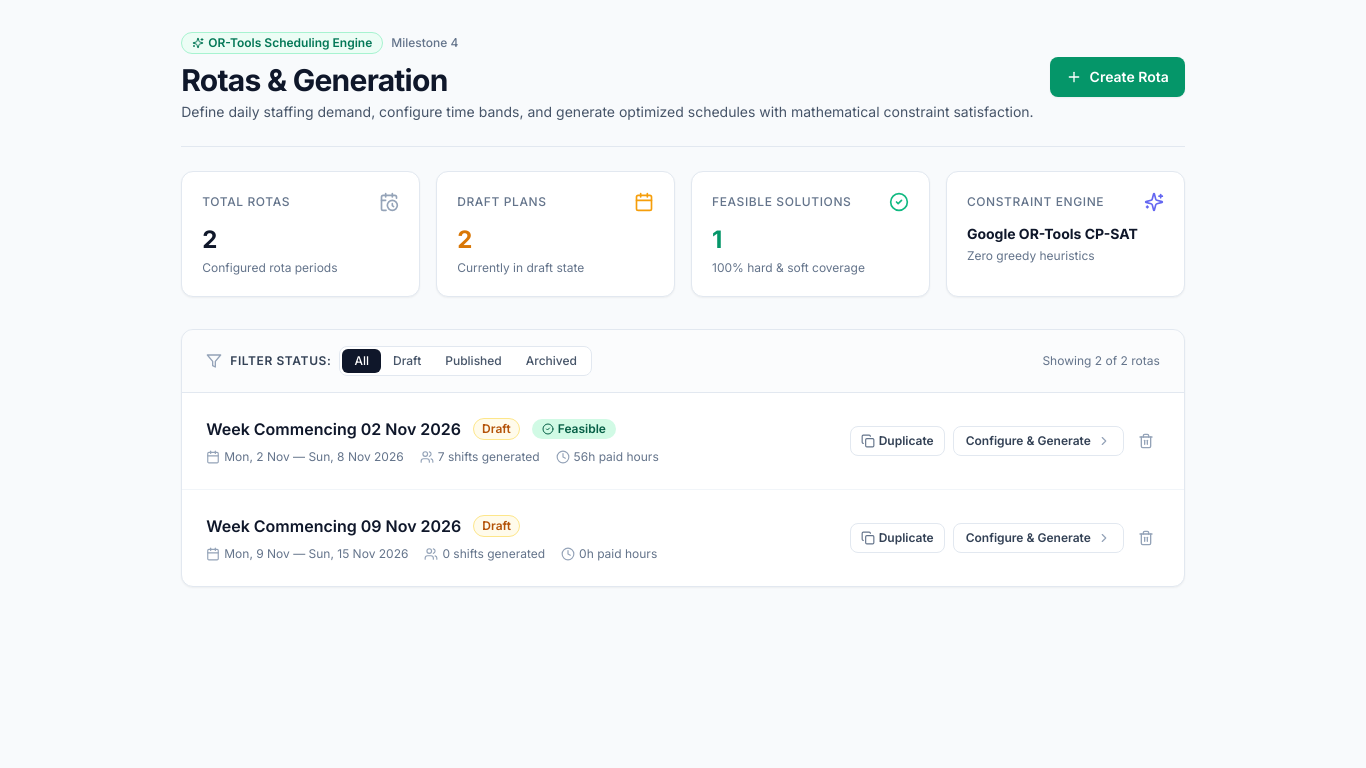
Scenario: RotasPage Component › opens create modal and supports quick period selectors
This screenshot has width=1366, height=768.
Click the button "Create Rota".
click(1117, 77)  # box [1050, 57, 1185, 97]
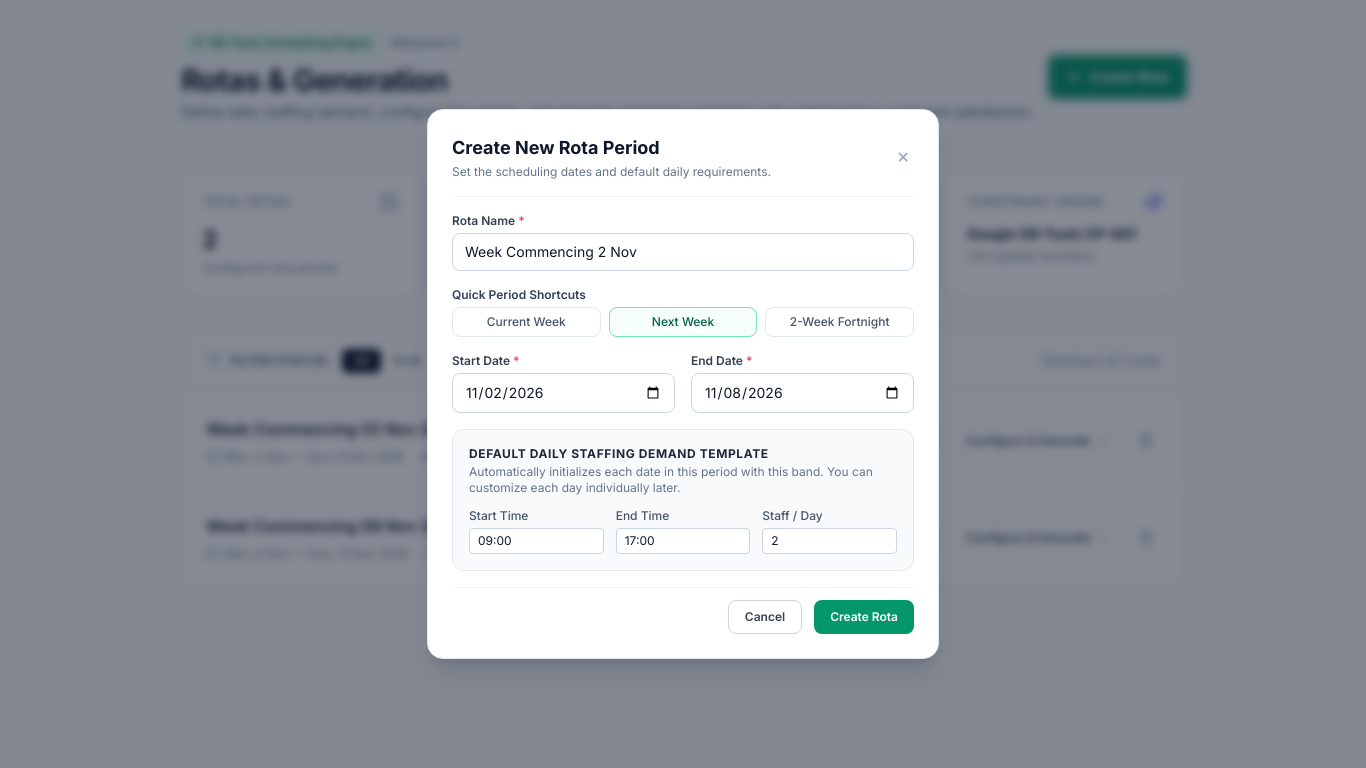
Result: the heading "Create New Rota Period" is shown at [452, 137, 660, 158]
Result: the field labelled "Rota Name *" is shown at [452, 233, 914, 271]
Result: the button "Current Week" is shown at [452, 307, 601, 337]
